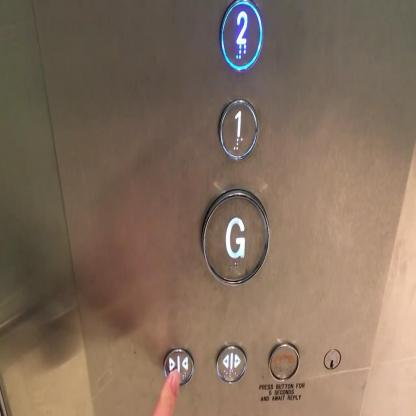1: (216, 94, 260, 164)
2: (217, 0, 265, 74)
G: (198, 184, 271, 288)
call: (266, 338, 301, 384)
close: (162, 344, 195, 390)
keyhole: (322, 345, 342, 373)
open: (214, 340, 248, 386)
